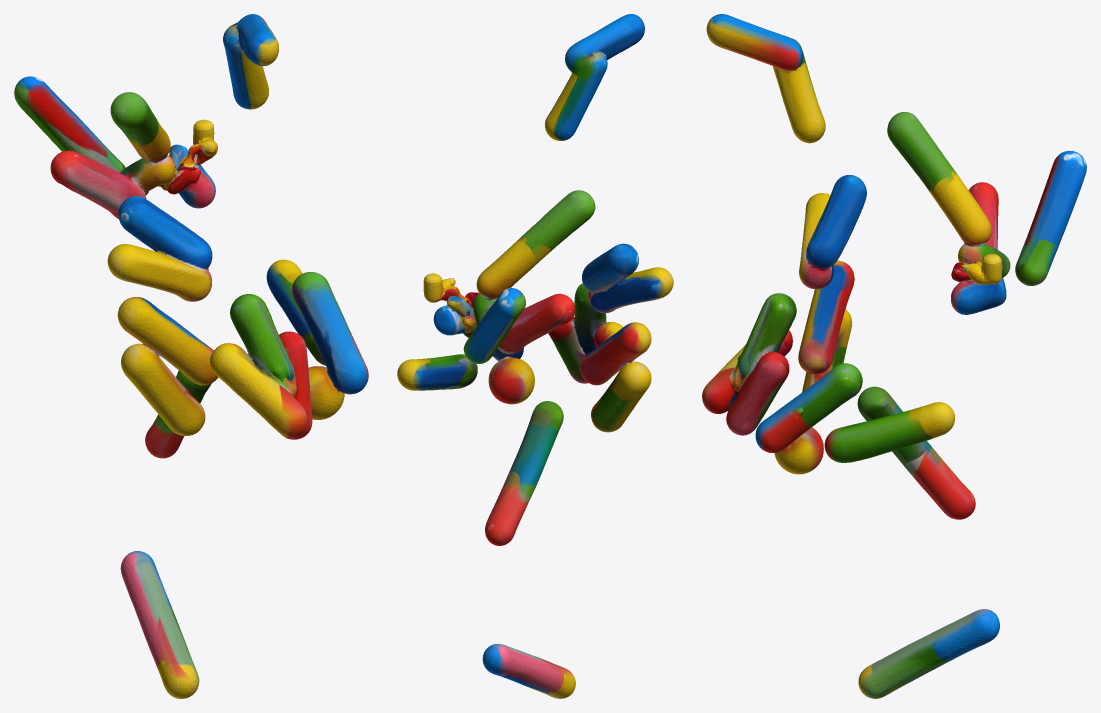
File: topping_sprinkles.glb
3 views of the same model, side by side, from view 1: azimuth 30°, elevation 25°; view 2: azimuth 150°, elevation 25°; view 3: azimuth 270°, elevation 25° (orthographic). The views are drawn at different scales.
Parts seen in each view (by area): view 1: tripo_node_fa5a03cd-d9ed-4532-ab90-2c2a6ab076c5; view 2: tripo_node_fa5a03cd-d9ed-4532-ab90-2c2a6ab076c5; view 3: tripo_node_fa5a03cd-d9ed-4532-ab90-2c2a6ab076c5.
Boxes of the visible parts, x1,y1,x2,y2 form: tripo_node_fa5a03cd-d9ed-4532-ab90-2c2a6ab076c5: (14, 14, 368, 698); tripo_node_fa5a03cd-d9ed-4532-ab90-2c2a6ab076c5: (397, 14, 673, 698); tripo_node_fa5a03cd-d9ed-4532-ab90-2c2a6ab076c5: (702, 14, 1086, 698).
Size of the model in its own units: 0.3625 by 1 by 0.5112.
1 material, 1 textured.
